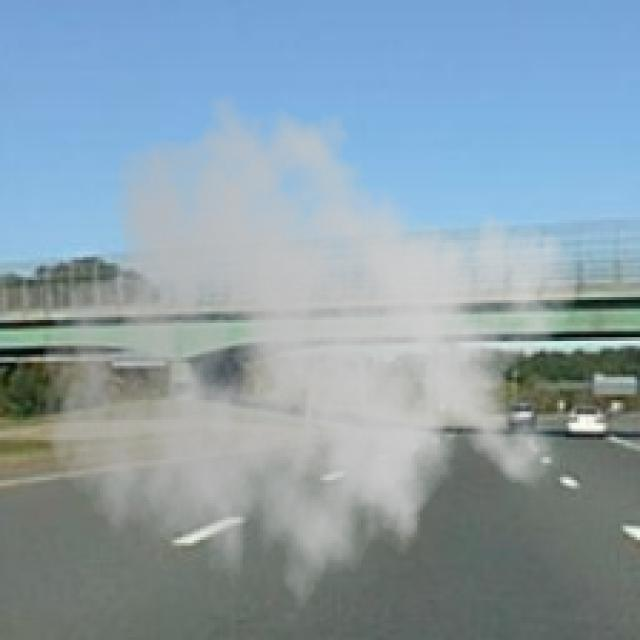smoke: (40, 80, 580, 634)
